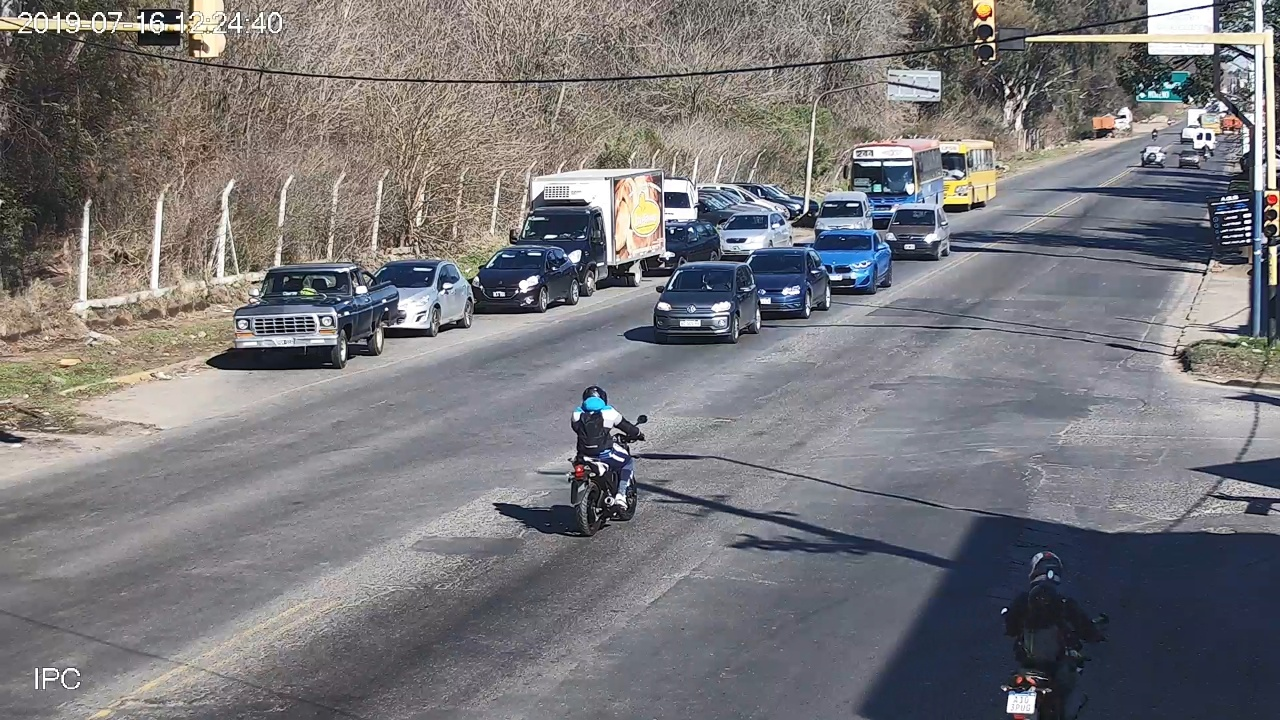front car: (232, 262, 399, 369), (654, 261, 761, 343)
motorcycle: (1001, 582, 1108, 720), (567, 403, 647, 535)
traffic light: (975, 1, 996, 61), (1263, 189, 1279, 237)
